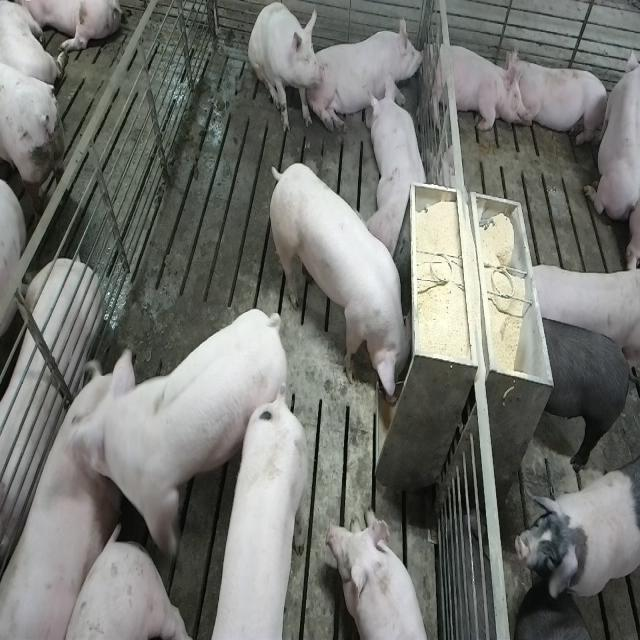Feeding: (272, 161, 420, 410)
Sitting: (248, 2, 324, 135)
Standing: (105, 306, 294, 604), (216, 391, 317, 640), (513, 461, 637, 605), (534, 313, 635, 470), (524, 268, 638, 365), (512, 605, 604, 640)
Sternal_lying: (0, 253, 100, 592), (315, 12, 426, 135), (332, 510, 435, 640), (369, 77, 431, 260), (509, 50, 611, 150), (584, 39, 637, 228), (424, 36, 522, 135)
